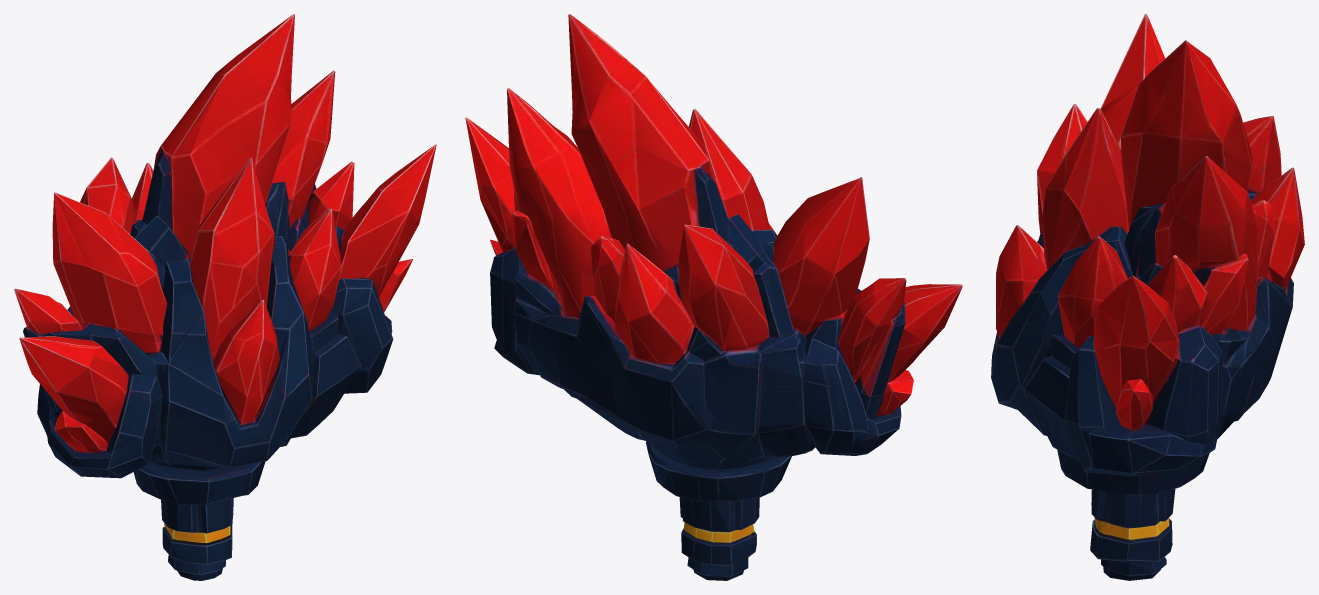
File: 907b7007-d160-44f0-8582-77f231dc2dab_part_13_optimized.glb
3 renders of one model, left to right at view 1: azimuth 30°, elevation 25°; view 2: azimuth 150°, elevation 25°; view 3: azimuth 270°, elevation 25°, orthographic. The views are drawn at different scales.
Visible parts, largest first — view 1: output_unwrapped; view 2: output_unwrapped; view 3: output_unwrapped.
Part boxes in pixels (x1,y1,x2,y2): output_unwrapped: (14,14,436,580); output_unwrapped: (465,14,962,580); output_unwrapped: (991,14,1304,580).
Size of the model in its own units: 1.72 by 1.9 by 0.9055.
Materials: 1 (1 with a texture image).
